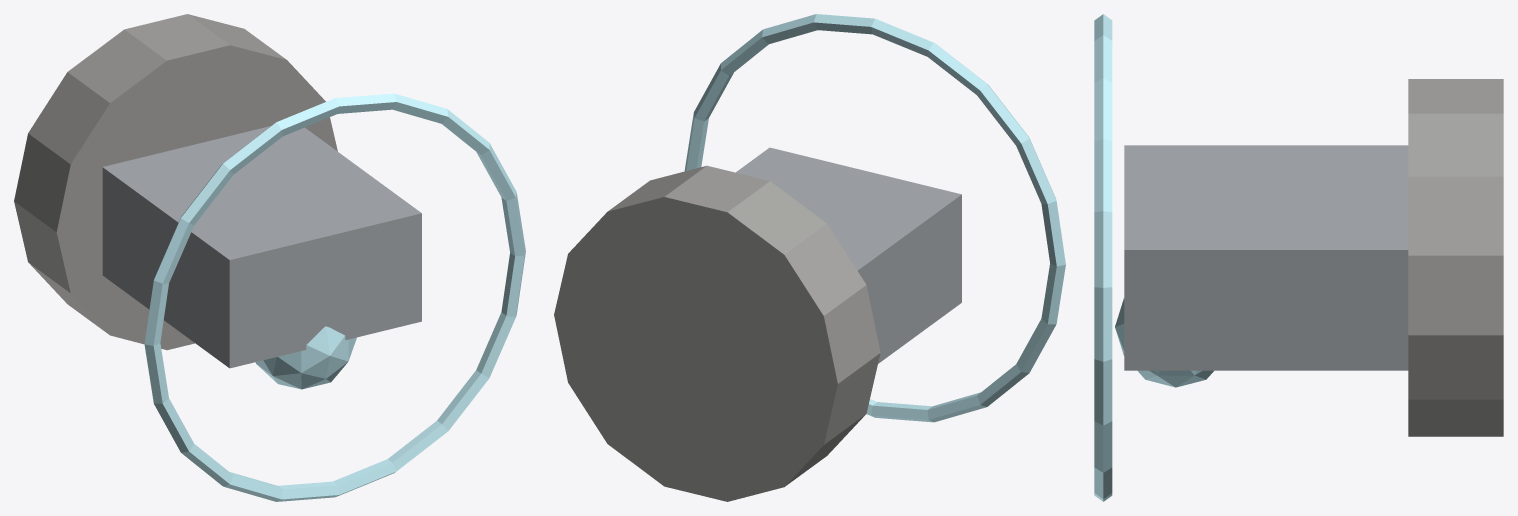
File: 02_music_trigger_totem.glb
The picture shows the model from 3 angles, left to right: view 1: azimuth 30°, elevation 25°; view 2: azimuth 150°, elevation 25°; view 3: azimuth 270°, elevation 25°; orthographic projection. The views are drawn at different scales.
Parts seen in each view (by area): view 1: control_or_relic_body, interaction_base, objective_ring, activation_core; view 2: interaction_base, control_or_relic_body, objective_ring; view 3: control_or_relic_body, interaction_base, objective_ring, activation_core.
Part boxes in pixels (<box>): control_or_relic_body: <box>102,126,421,368</box>; interaction_base: <box>14,14,337,350</box>; objective_ring: <box>144,93,525,501</box>; activation_core: <box>255,326,356,389</box>; interaction_base: <box>554,165,880,501</box>; control_or_relic_body: <box>736,147,961,363</box>; objective_ring: <box>684,14,1065,422</box>; control_or_relic_body: <box>1124,145,1408,370</box>; interaction_base: <box>1408,79,1503,436</box>; objective_ring: <box>1094,14,1112,501</box>; activation_core: <box>1115,298,1213,387</box>.
Bounding box in the file's own units: 1.29 × 1.29 × 1.07.
